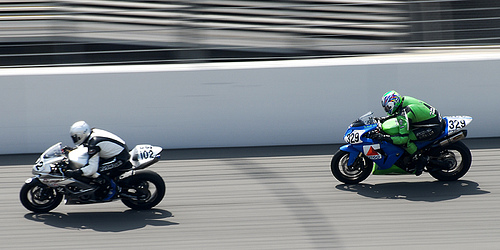helmet: (381, 92, 400, 110), (72, 123, 88, 138)
